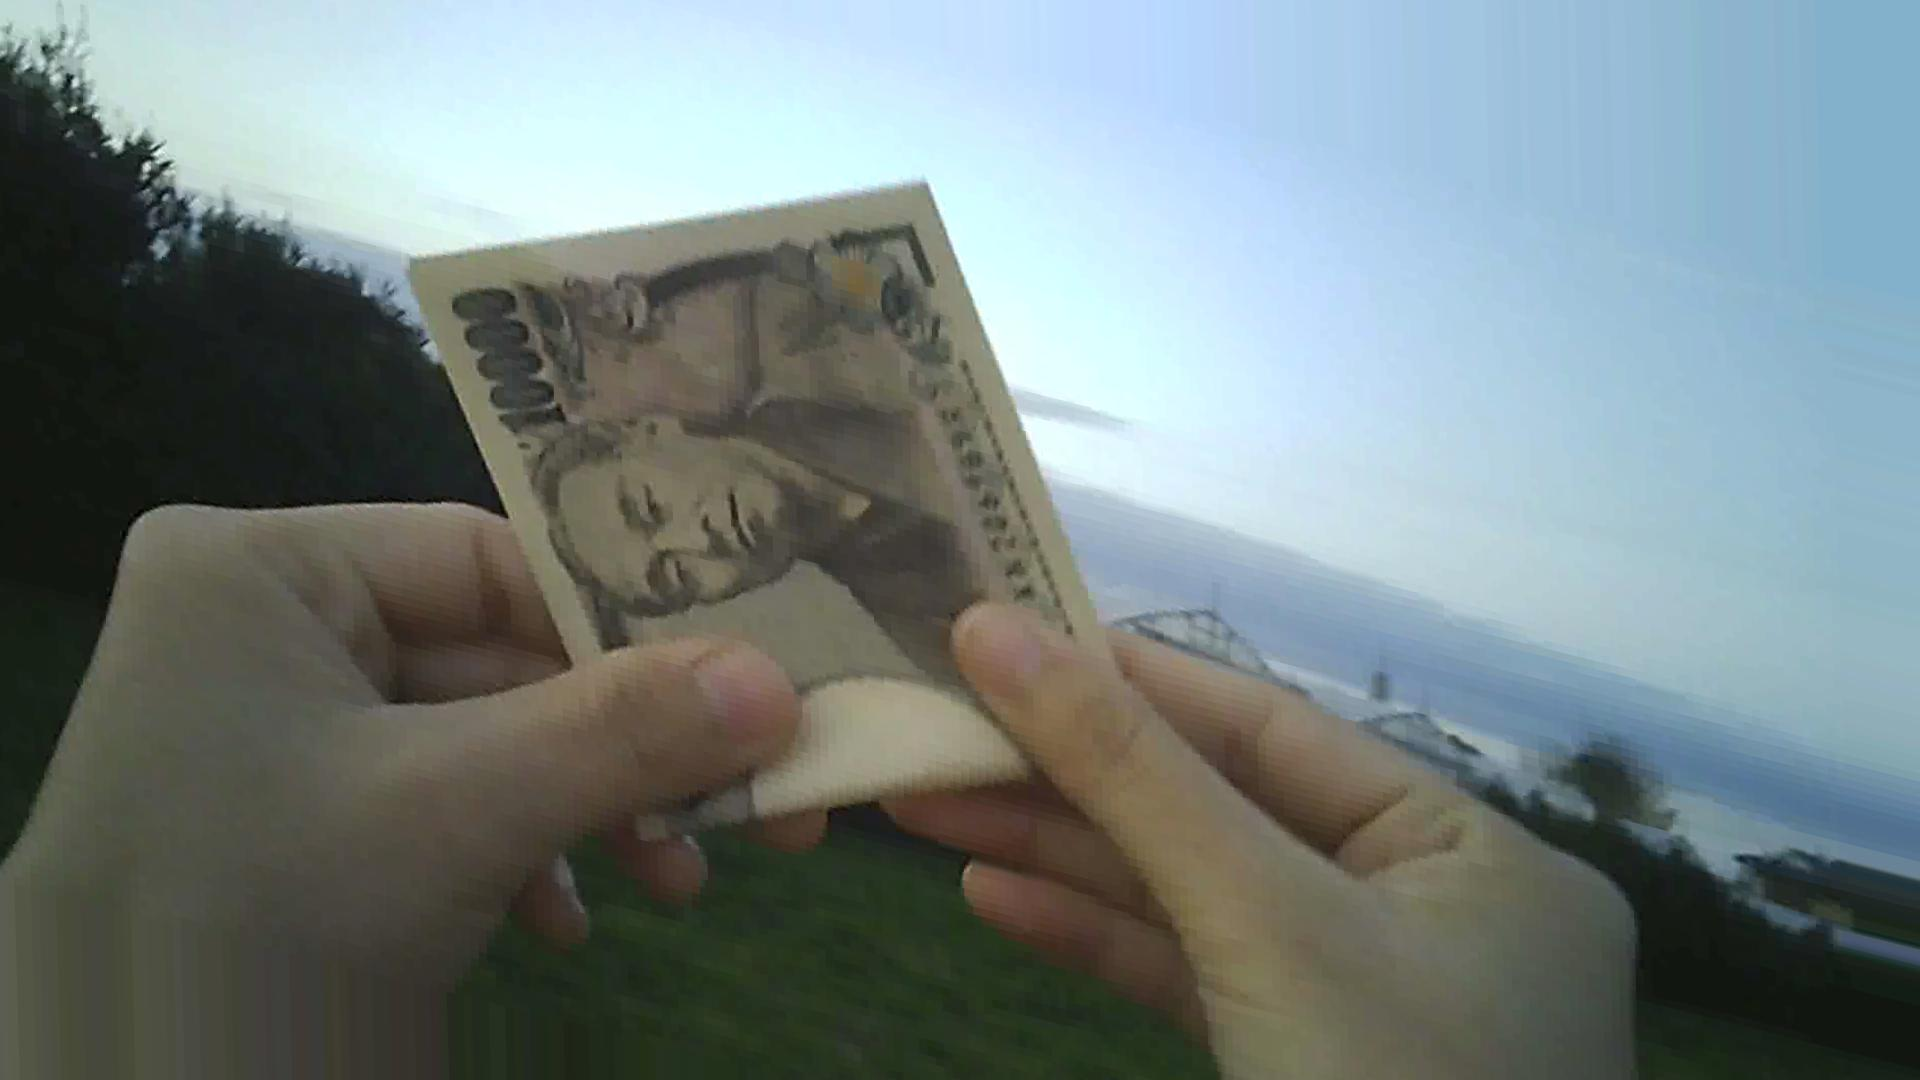10,000 Yen: (392, 170, 1158, 868)
